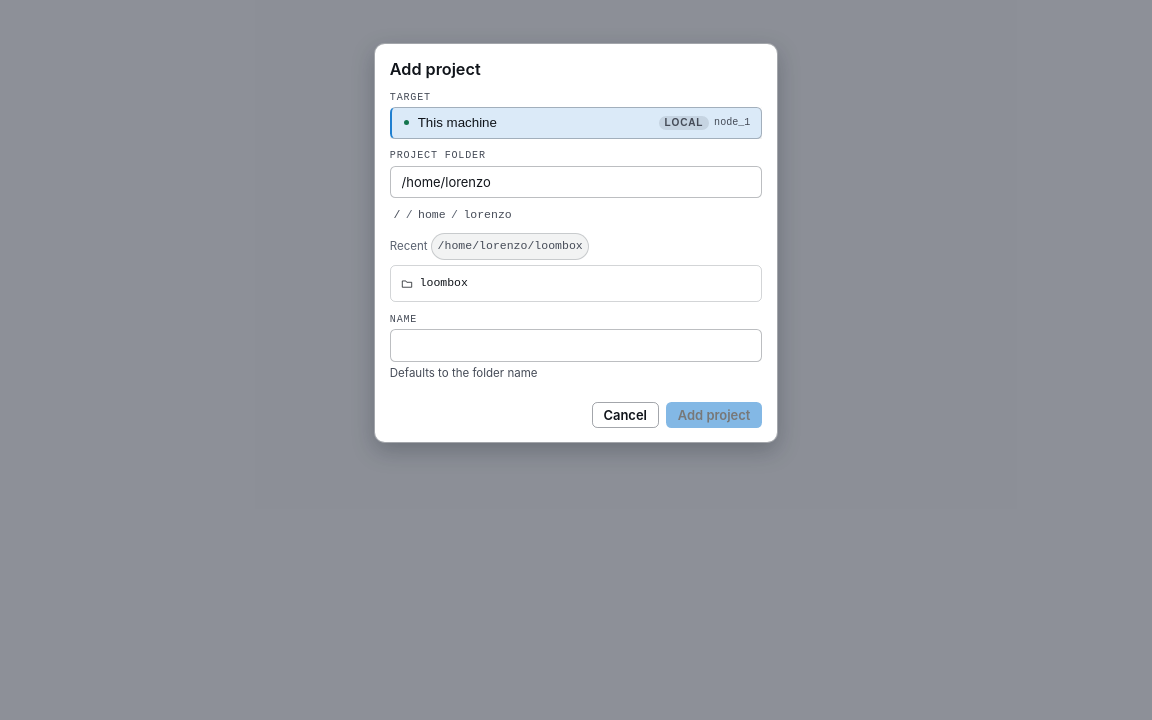
Scenario: AddProjectDialog (design spec §3.4, §4.2; issue #507) › stops auto-following the path once the user types their own name
Check: the text "loombox" is shown, box [420, 273, 468, 294]
Click the button with test id "directory-picker-entry" at (444, 283), box [394, 270, 758, 298]
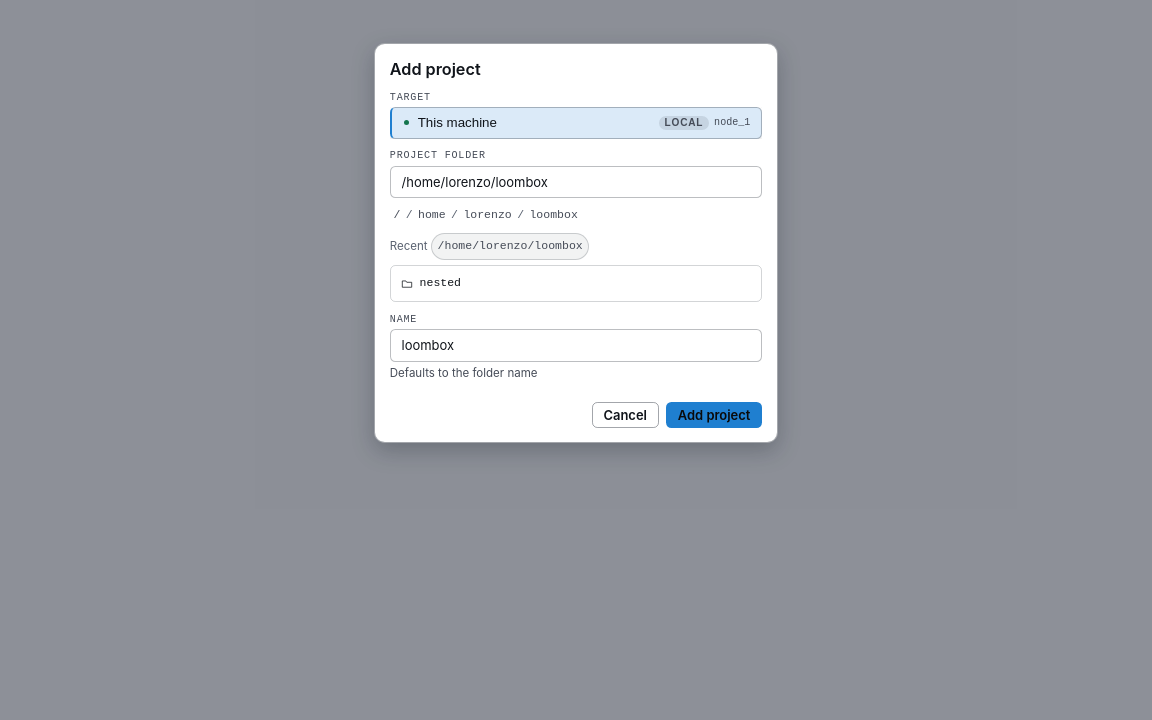
Check: the field with test id "add-project-name" holds "loombox"
Replace the text in the field with test id "add-project-name" with "My project" at (576, 346), box [390, 329, 762, 362]
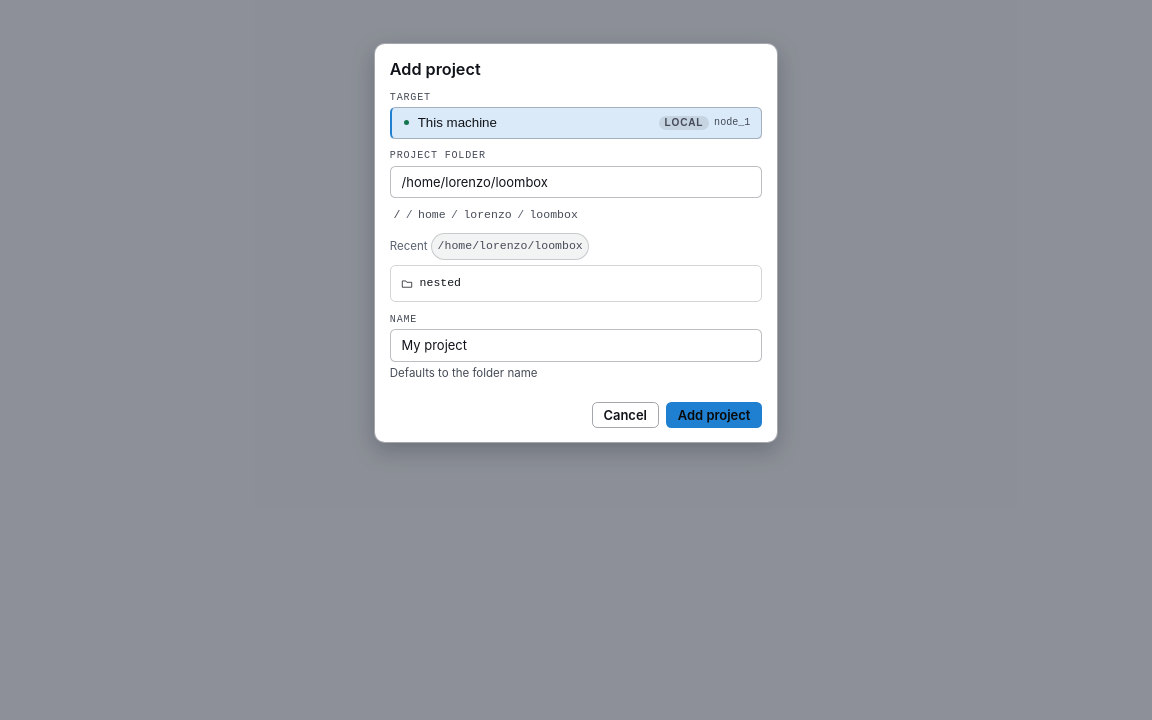
Check: the text "nested" is shown, box [420, 273, 461, 294]
Click the button with test id "directory-picker-entry" at (440, 283), box [394, 270, 758, 298]
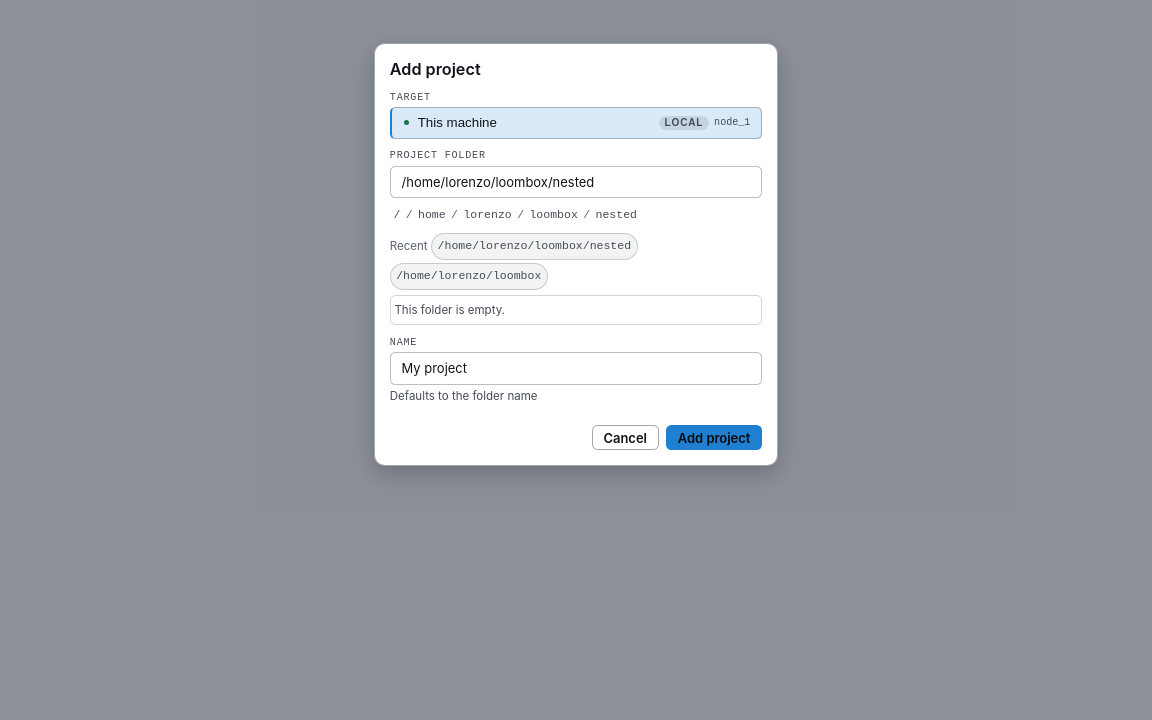
Check: the field with test id "add-project-path" holds "/home/lorenzo/loombox/nested", box [390, 166, 762, 198]
